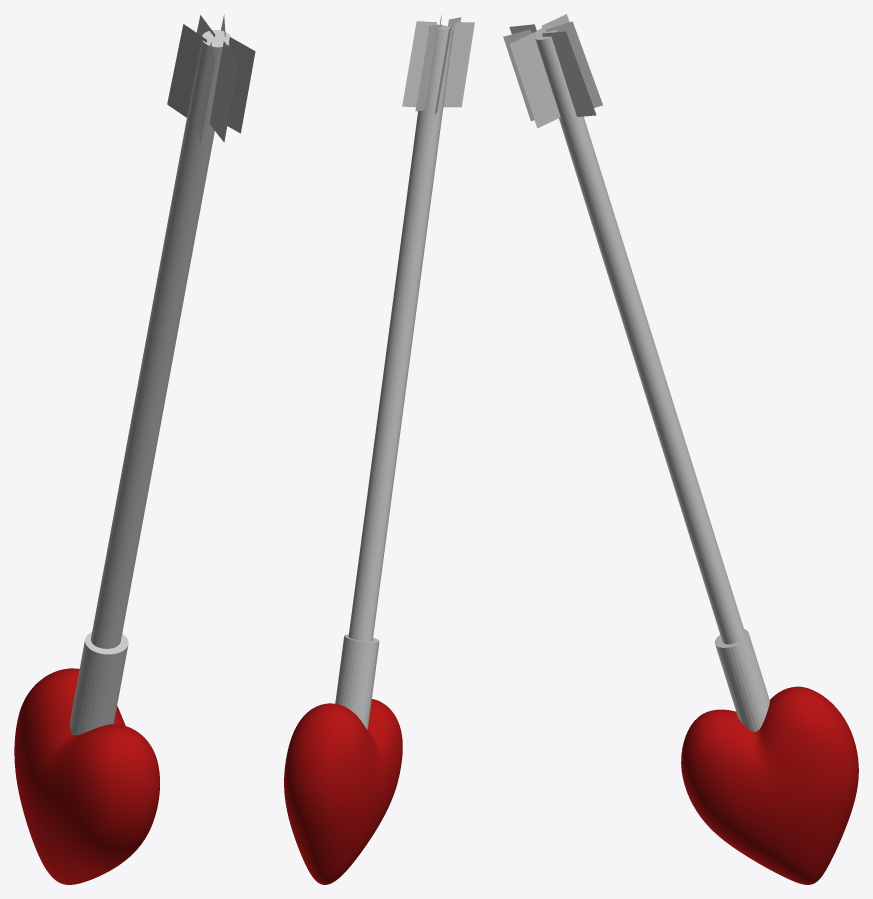
The picture shows the model from 3 angles, left to right: view 1: azimuth 30°, elevation 25°; view 2: azimuth 150°, elevation 25°; view 3: azimuth 270°, elevation 25°; orthographic projection. The views are drawn at different scales.
Parts seen in each view (by area): view 1: 12190_Heart_v1_L3.002, Cylinder.001, Cylinder.002, Plane.003, Plane, Plane.001, Plane.002; view 2: 12190_Heart_v1_L3.002, Cylinder.001, Cylinder.002, Plane.002, Plane.004, Plane.005; view 3: 12190_Heart_v1_L3.002, Cylinder.001, Cylinder.002, Plane.001, Plane.004, Plane.005.
Part boxes in pixels (x1,y1,x2,y2): 12190_Heart_v1_L3.002: (14,668,159,884); Cylinder.001: (91,30,231,648); Cylinder.002: (70,632,128,735); Plane.003: (167,24,206,117); Plane: (209,41,238,142); Plane.001: (227,37,255,133); Plane.002: (196,42,215,143); 12190_Heart_v1_L3.002: (284,699,402,884); Cylinder.001: (348,24,453,641); Cylinder.002: (335,634,379,729); Plane.002: (443,22,474,107); Plane.004: (402,21,436,107); Plane.005: (415,24,441,111); 12190_Heart_v1_L3.002: (681,686,858,884); Cylinder.001: (534,26,745,644); Cylinder.002: (714,629,769,731); Plane.001: (509,32,560,128); Plane.004: (542,31,596,116); Plane.005: (545,21,602,107).
Size of the model in its own units: 0.2517 by 2.41 by 0.8999.
